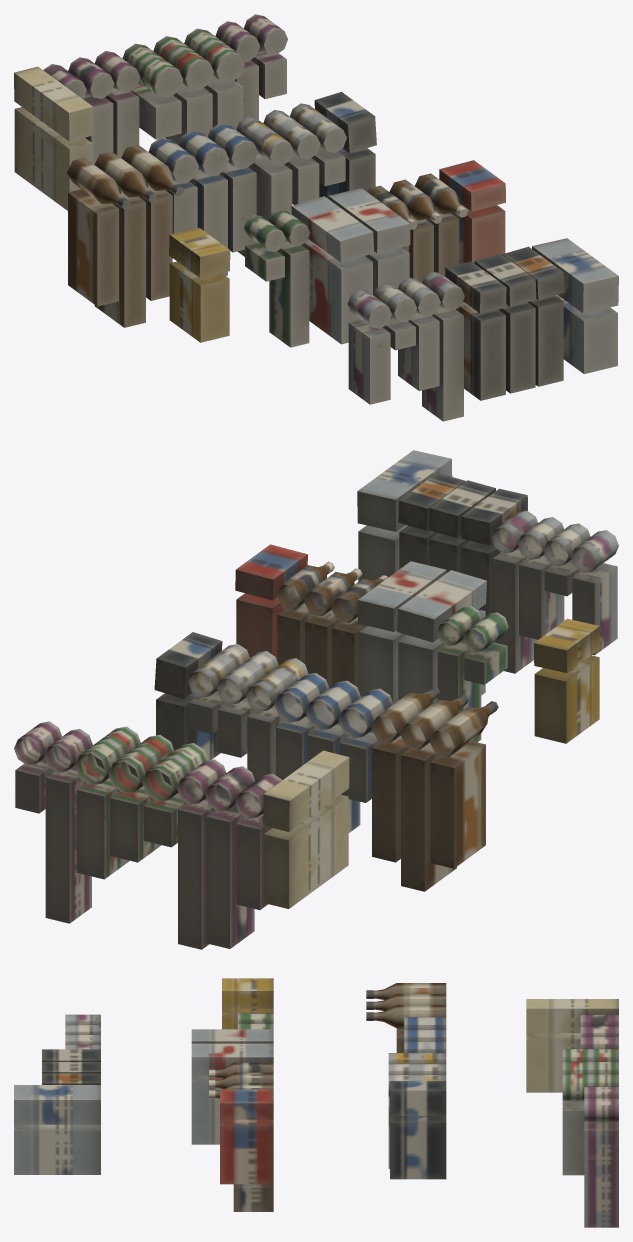
File: goods_store_2.obj
3 views of the same model, one above another, from view 1: azimuth 30°, elevation 25°; view 2: azimuth 150°, elevation 25°; view 3: azimuth 270°, elevation 25° (orthographic). The views are drawn at different scales.
Bounding box in the file's own units: 0.8245 × 0.4215 × 1.68.
1 material, 1 textured.
